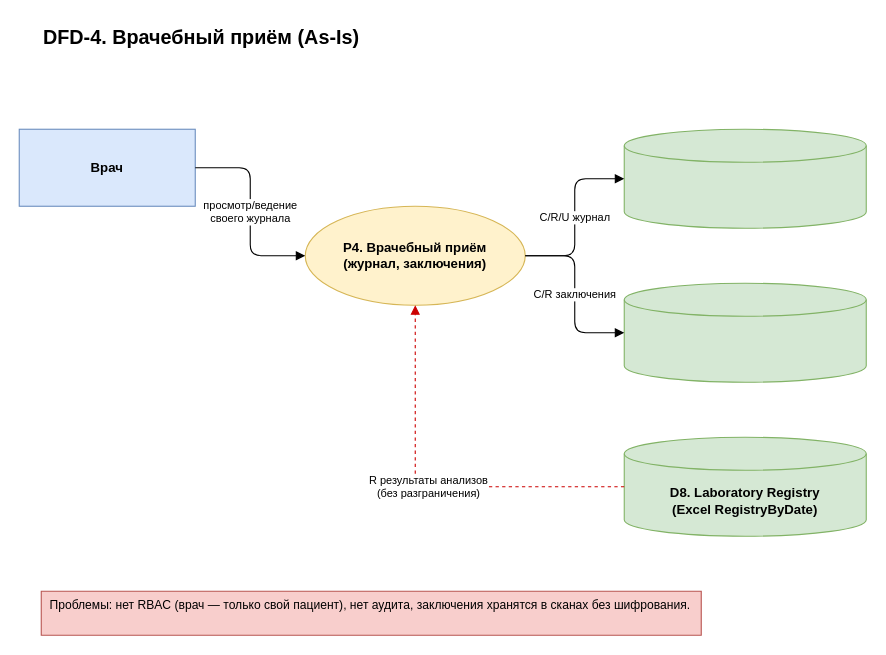
This 886x655 diagram has some shape labels left out. Each missing label, with the centre of its shape:
D1. Excel Journal-Doctor-FIO: point 744,178
D3. Сканы медкарт / заключения (JPG/PDF): point 744,332
